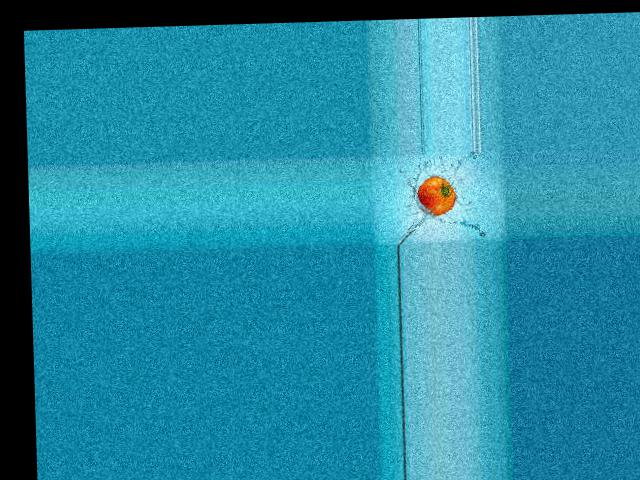tomato: (416, 175, 456, 216)
